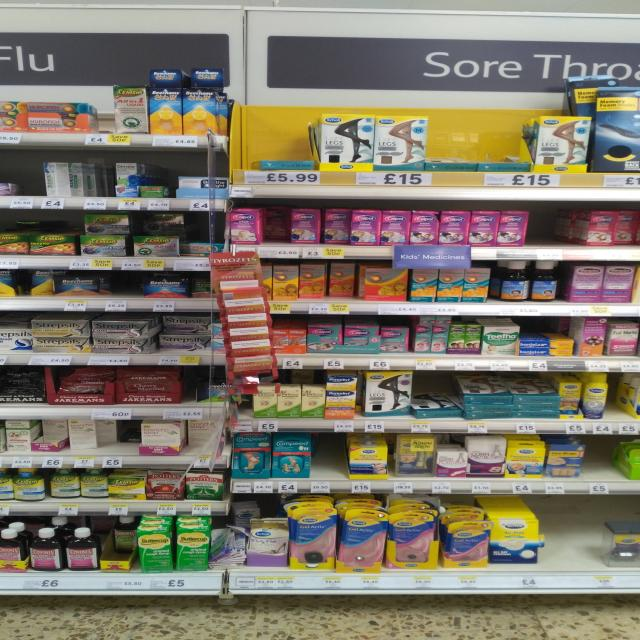empty: (423, 116, 540, 186), (542, 492, 607, 569), (253, 112, 321, 175), (524, 199, 589, 251), (309, 434, 351, 488), (582, 434, 621, 477), (11, 154, 45, 198), (114, 417, 138, 463)
